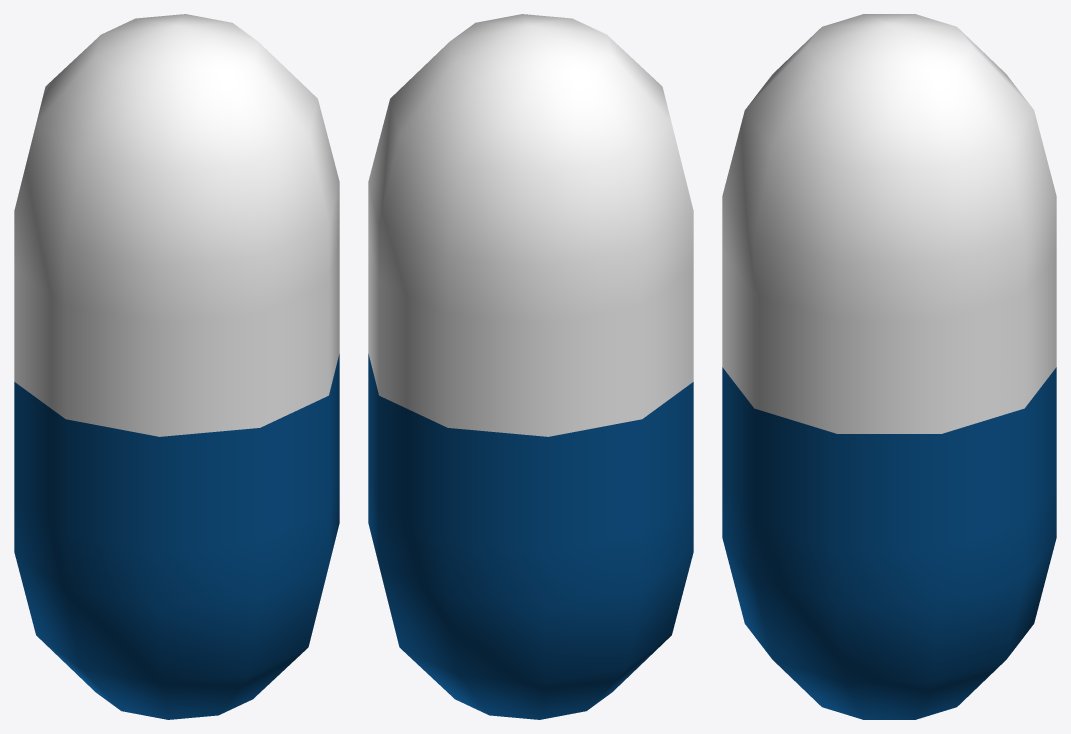
File: Pills_3.fbx
3 renders of one model, left to right at view 1: azimuth 30°, elevation 25°; view 2: azimuth 150°, elevation 25°; view 3: azimuth 270°, elevation 25°, orthographic.
Visible parts, largest first — view 1: Pills_3; view 2: Pills_3; view 3: Pills_3.
Part boxes in pixels (left/top/right/bottom): Pills_3: left=14, top=14, right=339, bottom=719; Pills_3: left=368, top=14, right=693, bottom=719; Pills_3: left=722, top=14, right=1056, bottom=719.
Size of the model in its own units: 0.0837 by 0.1991 by 0.088.
